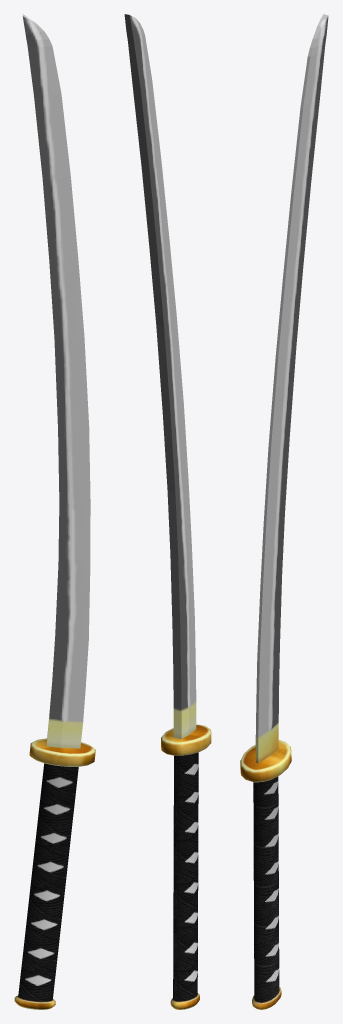
Rendered from Katana.fbx.
The picture shows the model from 3 angles, left to right: view 1: azimuth 90°, elevation 25°; view 2: azimuth 150°, elevation 25°; view 3: azimuth 330°, elevation 25°; orthographic projection. The views are drawn at different scales.
Parts seen in each view (by area): view 1: Katana.001; view 2: Katana.001; view 3: Katana.001.
Boxes of the visible parts, bbox=[...] form: Katana.001: bbox=[14, 14, 95, 1009]; Katana.001: bbox=[124, 14, 211, 1009]; Katana.001: bbox=[240, 14, 328, 1009].
Bounding box in the file's own units: 90.06 × 1296 × 98.43.
